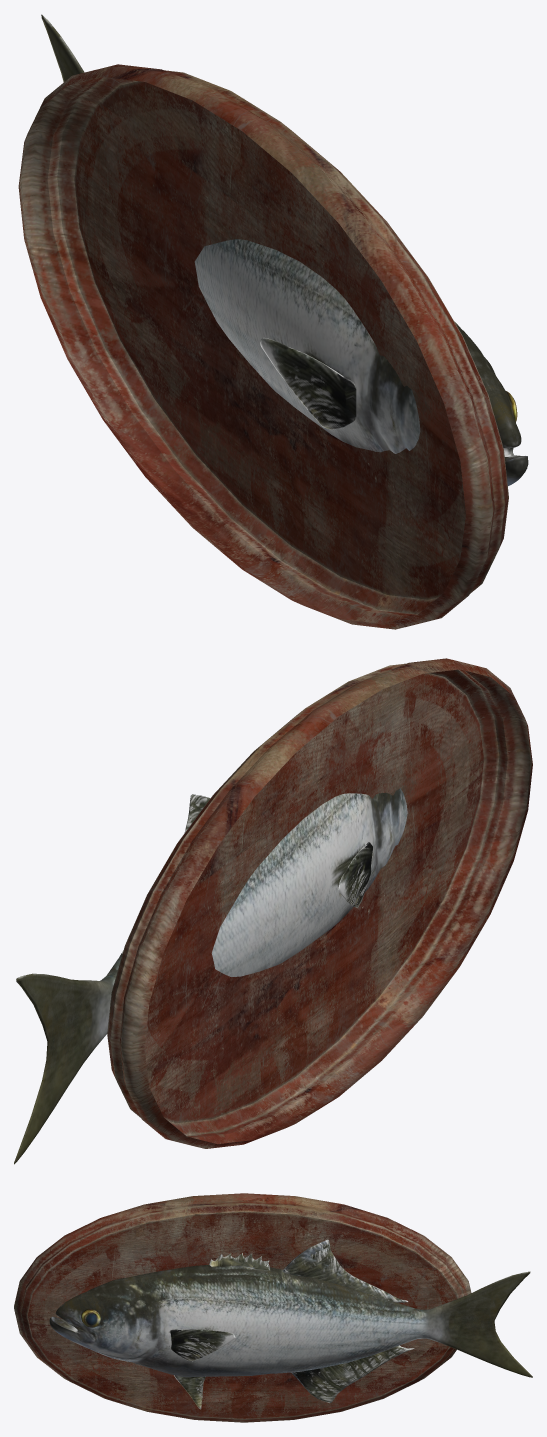
File: Prop_Fish.fbx
3 renders of one model, top to bottom at view 1: azimuth 30°, elevation 25°; view 2: azimuth 150°, elevation 25°; view 3: azimuth 270°, elevation 25°, orthographic. The views are drawn at different scales.
Parts seen in each view (by area): view 1: Prop_Fish; view 2: Prop_Fish; view 3: Prop_Fish.
Part boxes in pixels (<box>): Prop_Fish: <box>18,14,528,629</box>; Prop_Fish: <box>14,658,532,1164</box>; Prop_Fish: <box>14,1193,532,1422</box>.
Size of the model in its own units: 9 by 23.97 by 49.98.
